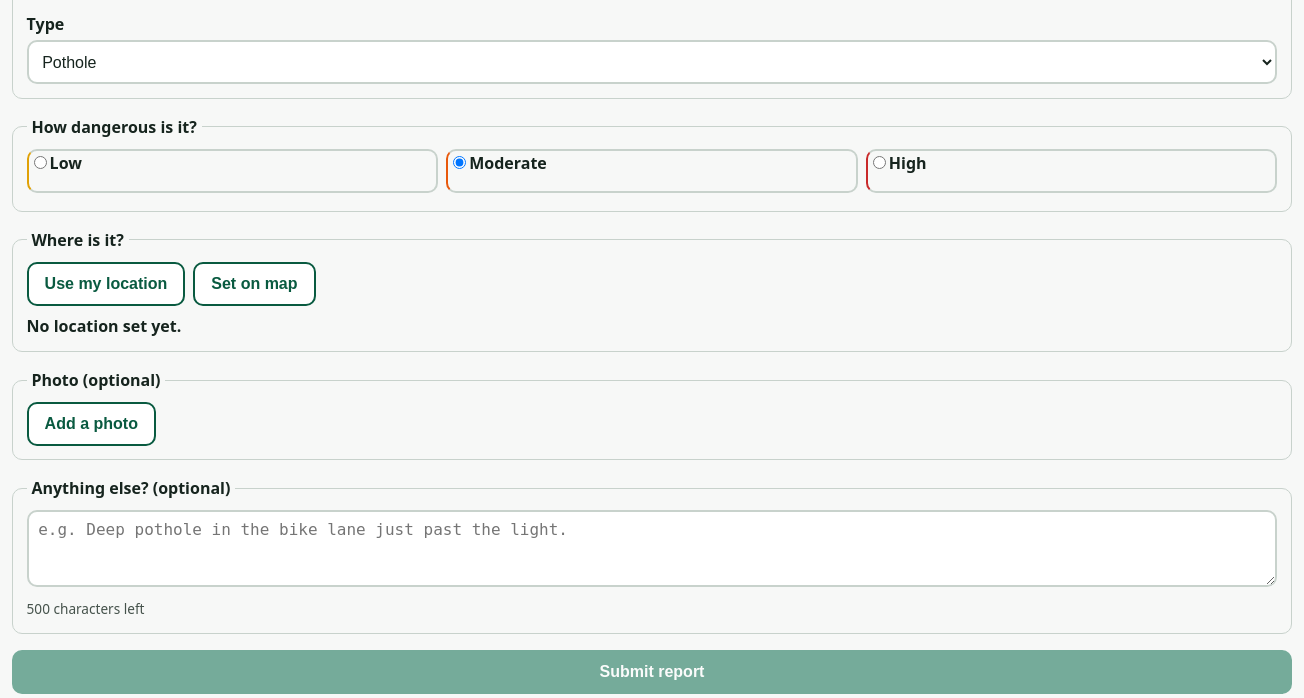
Test: ReportForm › does not claim a count moved when this device had already confirmed it (#177)
The width and height of the screenshot is (1304, 698).
Click the button "Use my location": (106, 284) [27,262,185,306]
(page scrolled)
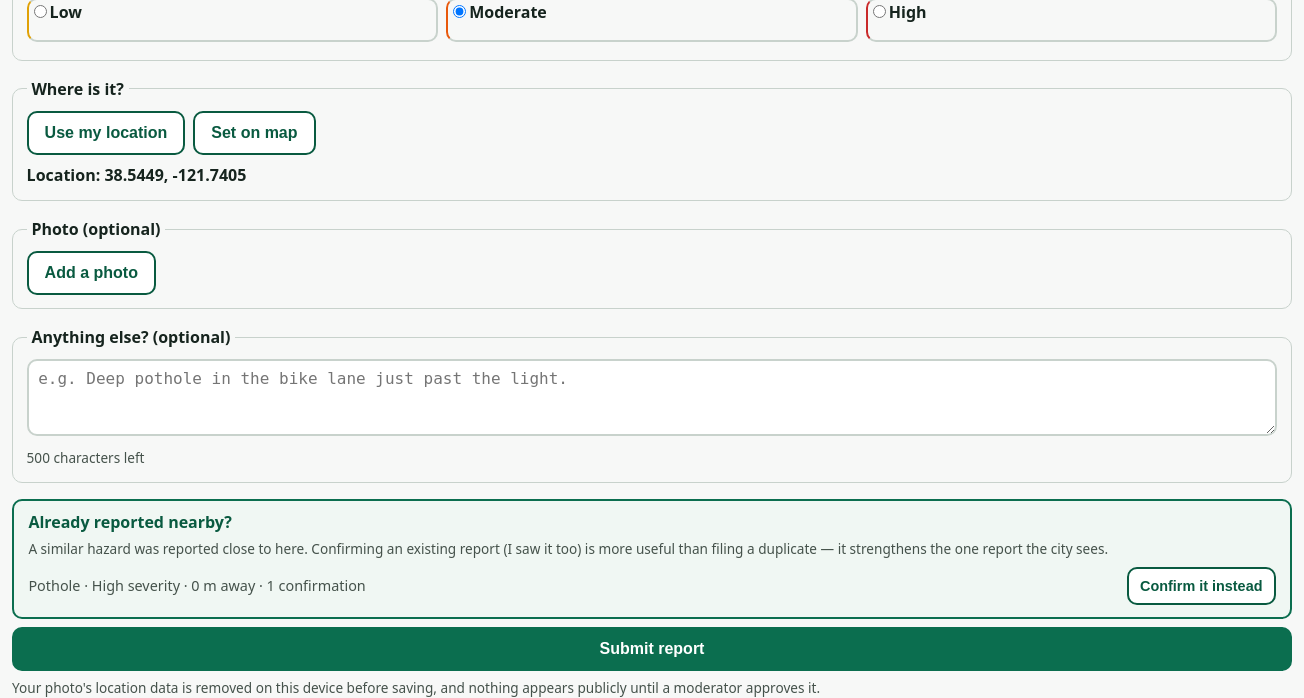
Now the element named "possible duplicates nearby" is shown, box [12,499,1292,619]
Click the button "Confirm it instead": (1201, 586) [1127,567,1276,605]
(page scrolled)
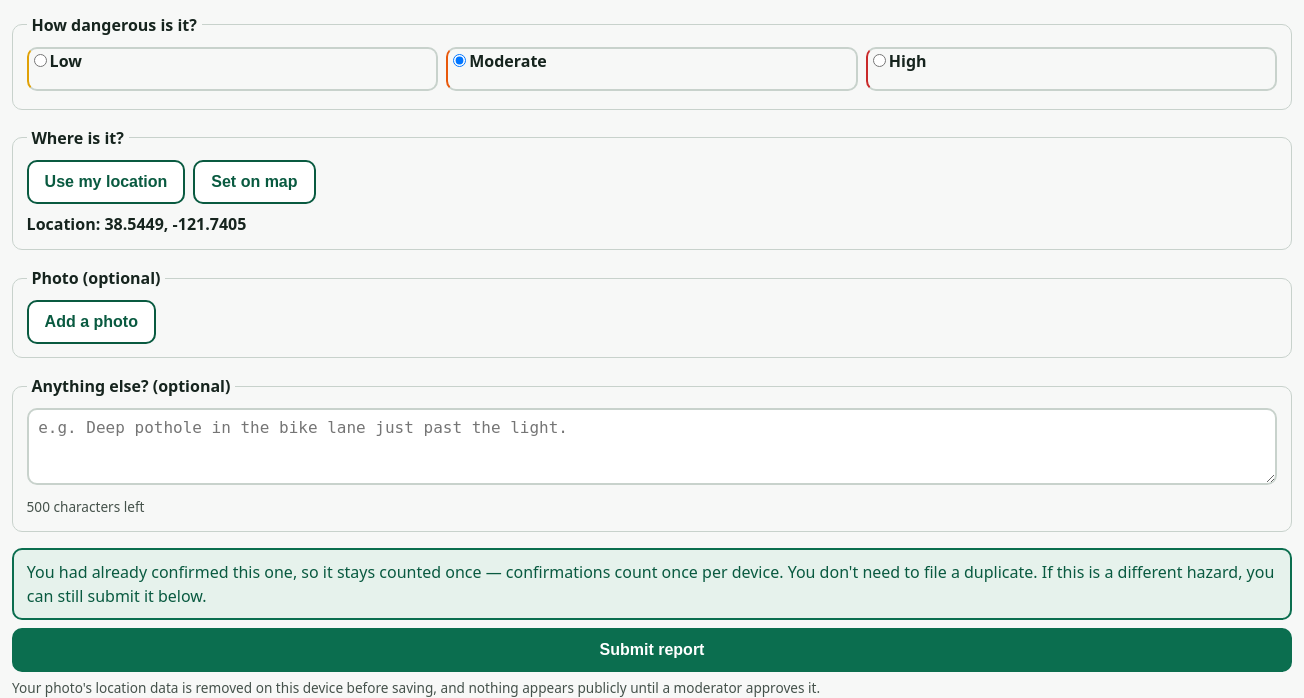
Now the text "don't need to file a duplicate" is shown, box [27,561,1274,607]
